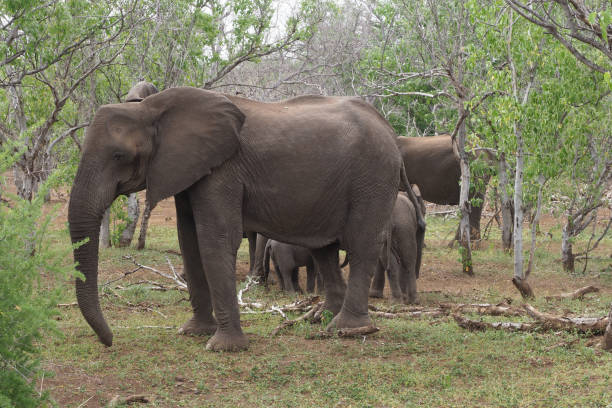africanelephant: (48, 95, 194, 224)
